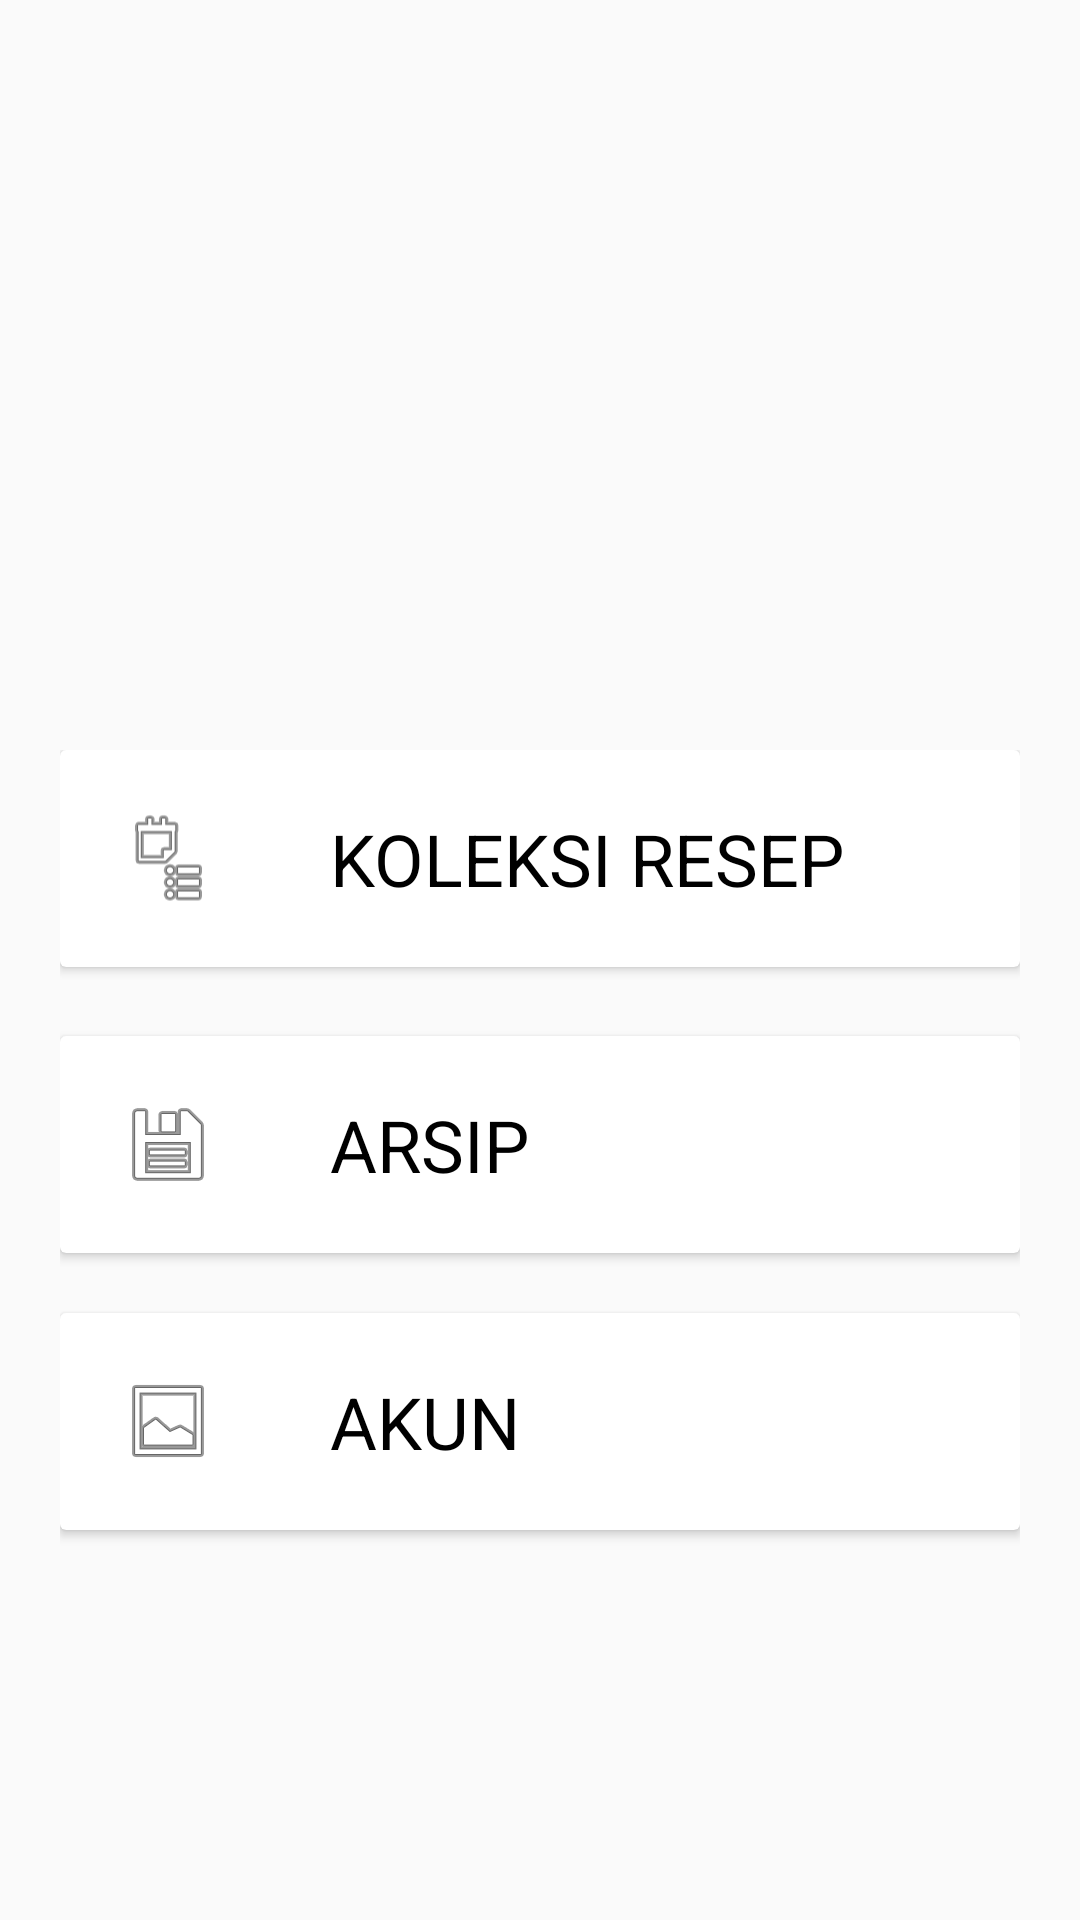

Icons on this 1080 x 1920 Android screen, each with the point to tap as (x=x, y=y):
agenda: (x=168, y=858)
gallery: (x=168, y=1421)
save: (x=168, y=1144)
